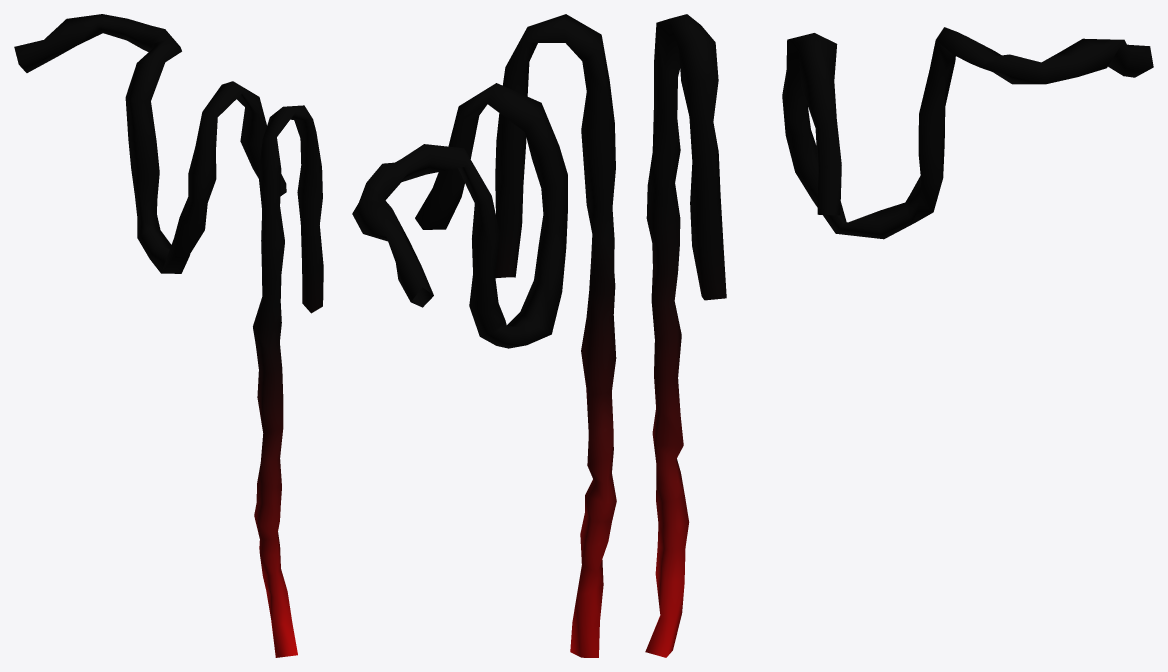
Rendered from SM_Guts_B_Fence_C_05.fbx.
3 renders of one model, left to right at view 1: azimuth 30°, elevation 25°; view 2: azimuth 150°, elevation 25°; view 3: azimuth 270°, elevation 25°, orthographic. The views are drawn at different scales.
Visible parts, largest first — view 1: SM_Guts_B_Fence_C_05_LOD0; view 2: SM_Guts_B_Fence_C_05_LOD0; view 3: SM_Guts_B_Fence_C_05_LOD0.
Boxes of the visible parts, left/top/right/bottom form: SM_Guts_B_Fence_C_05_LOD0: left=14, top=14, right=323, bottom=657; SM_Guts_B_Fence_C_05_LOD0: left=352, top=14, right=616, bottom=657; SM_Guts_B_Fence_C_05_LOD0: left=645, top=14, right=1153, bottom=657.
Bounding box in the file's own units: 22.27 × 57.81 × 80.74.
